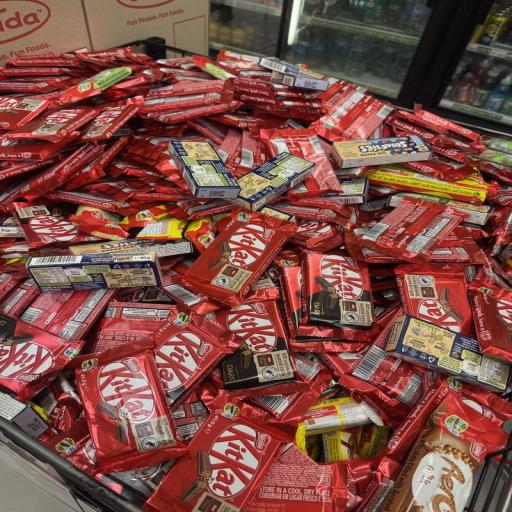kitkat: (36, 335, 187, 512)
